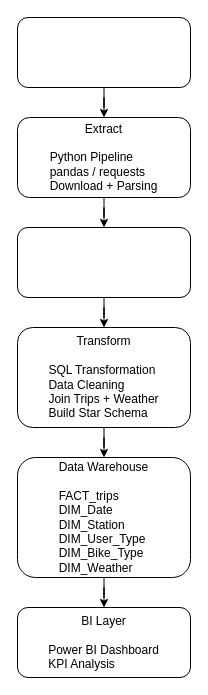
Image size: 208x695. Some labels were removed from this diagram. The shapes that lost their labels are listed below. From the top down, each one's box as (x1, y1, x2, y2) in pixels, then its label:
(16, 16, 190, 88): Source CitiBike CSV Data OpenMeteo Weather API
(16, 226, 190, 298): Load Raw Tables in PostgresSQL (Staging Area)
